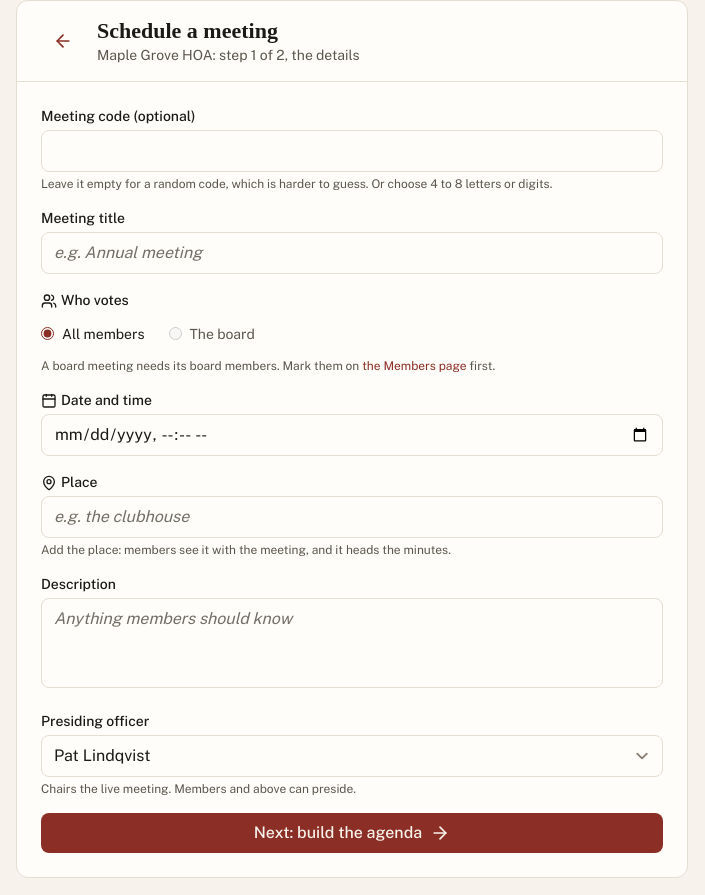
Test: MeetingScheduler › hints, never with what looks typed, and nudges for a place
This screenshot has width=705, height=895.
Type "Annual Meeting" into the field labelled "Meeting title" at x=352, y=252, box [41,232,663,274]
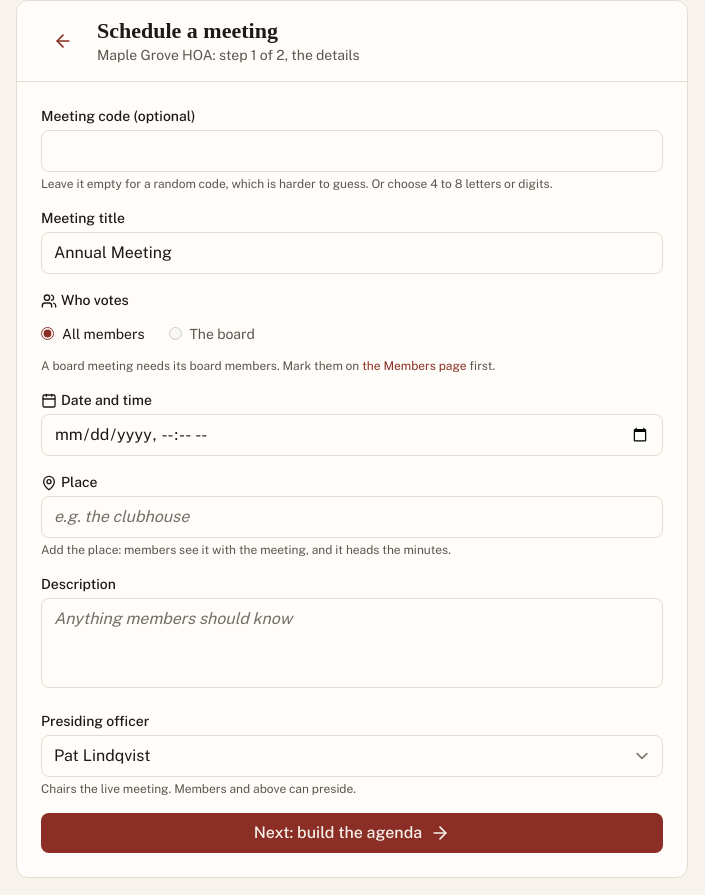
Type "The clubhouse" into the field labelled "Place" at x=352, y=516, box [41,496,663,538]
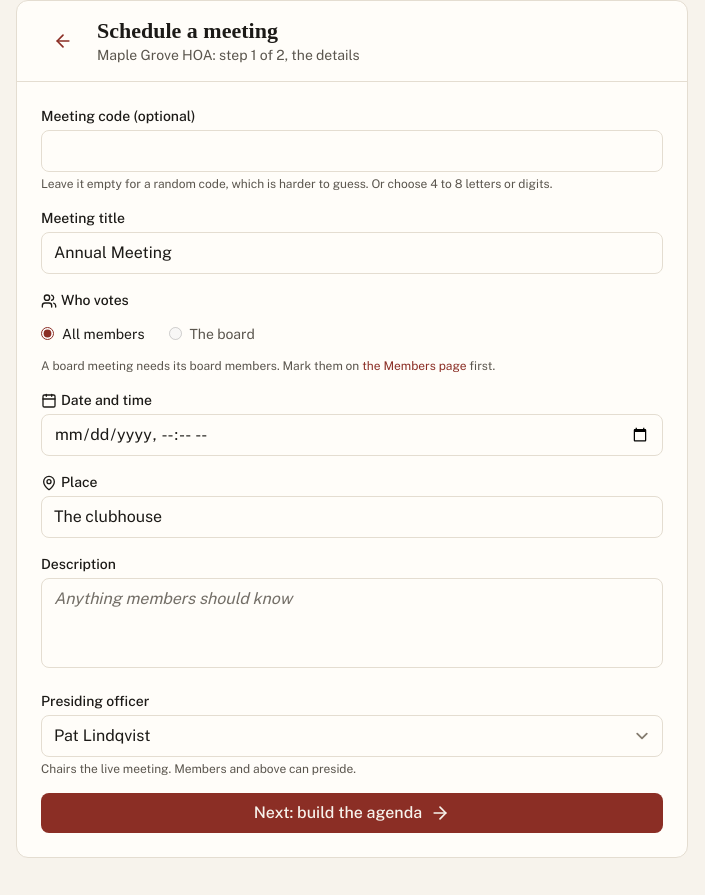
Now the text "Add the place: members see it with the meeting, and it heads the minutes." is gone
